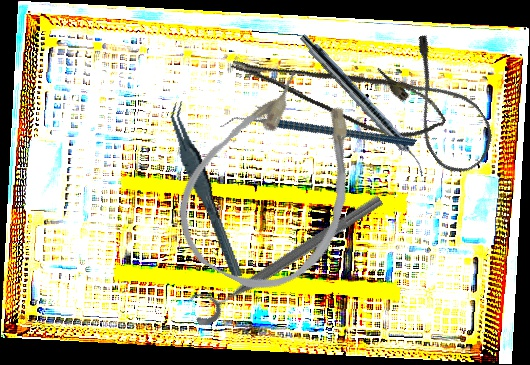Cannula: (156, 50, 395, 313), (373, 31, 506, 184)
Chopper: (219, 57, 418, 210)
Fixation Ring: (183, 179, 387, 330)
Handpiece: (295, 31, 433, 178)
Micro Scissor: (228, 21, 453, 156)
Tissue Forceps: (166, 96, 244, 284)
